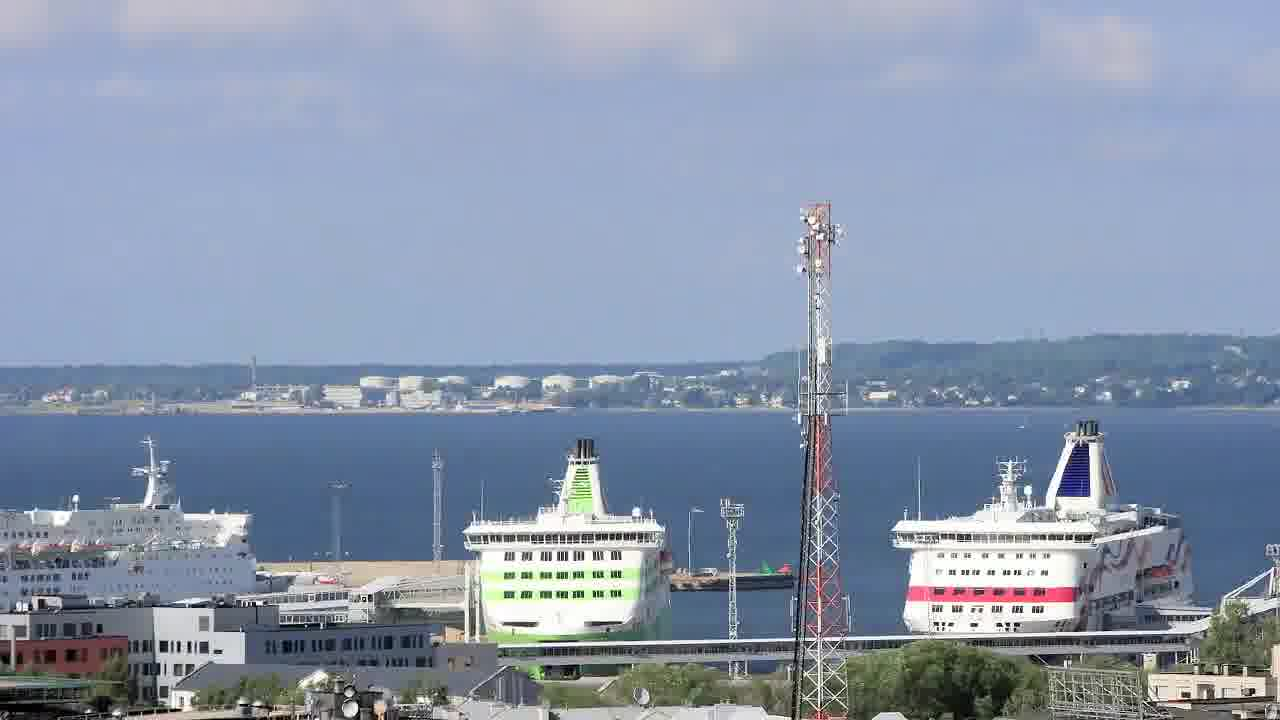type-3: (868, 415, 1225, 638), (436, 434, 694, 670), (2, 443, 269, 626)
